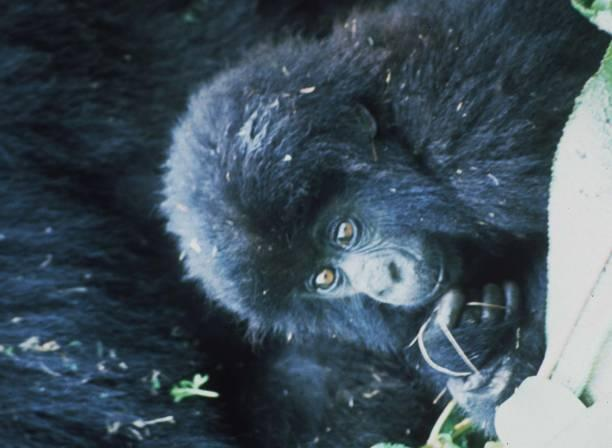goriile_montagne: (147, 0, 547, 438)
